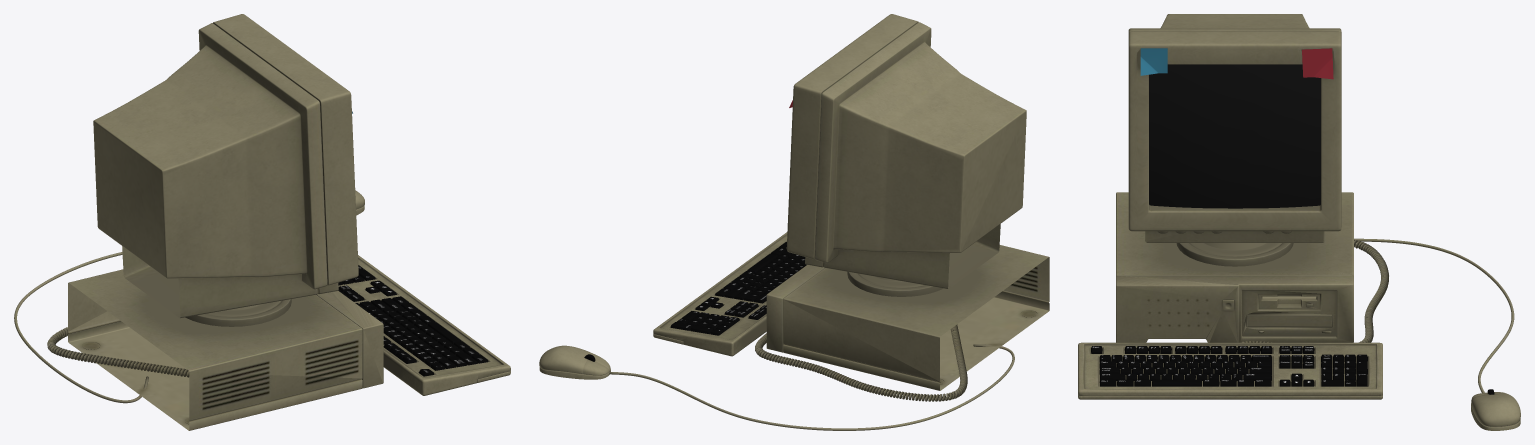
3 views of the same model, side by side, from view 1: azimuth 30°, elevation 25°; view 2: azimuth 150°, elevation 25°; view 3: azimuth 270°, elevation 25° (orthographic). The views are drawn at different scales.
Visible parts, largest first — view 1: VintageComputer; view 2: VintageComputer; view 3: VintageComputer.
Boxes of the visible parts, x1,y1,x2,y2 form: VintageComputer: (14,14,510,430); VintageComputer: (539,14,1049,430); VintageComputer: (1078,14,1520,430).
Bounding box in the file's own units: 0.6799 × 0.4908 × 0.6656.
2 materials, 2 textured.
